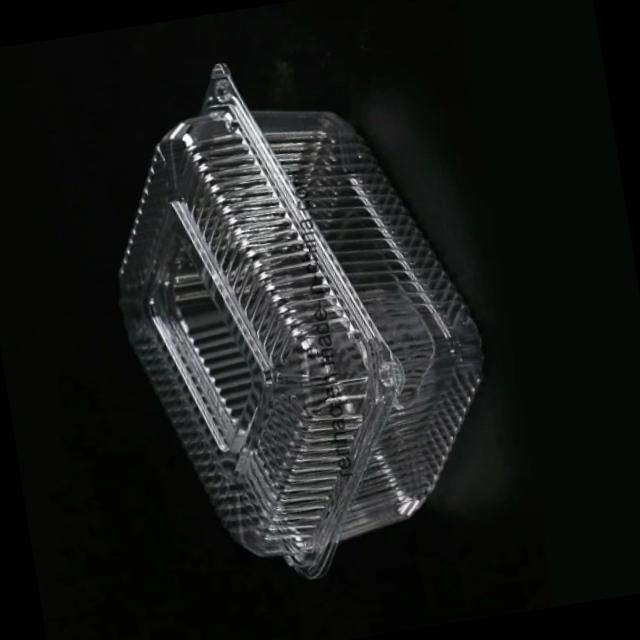plastic_box: (86, 12, 559, 583)
